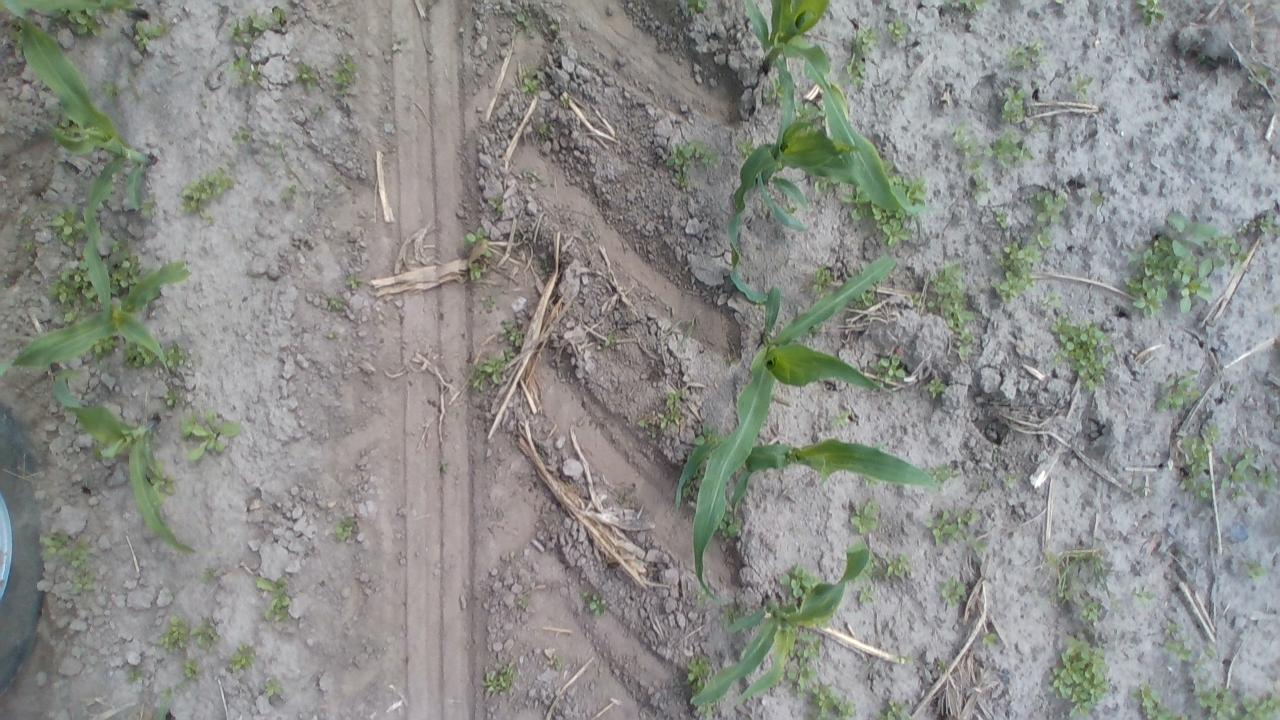Maize: (690, 244, 899, 606), (3, 3, 158, 322), (744, 0, 922, 220), (728, 108, 899, 309), (686, 534, 874, 715), (48, 366, 198, 555), (3, 224, 189, 374), (669, 438, 940, 528), (15, 0, 155, 20), (149, 697, 175, 720)
Weeds: (1124, 212, 1218, 319), (792, 640, 858, 718), (1052, 317, 1114, 391), (1051, 640, 1110, 715), (930, 266, 976, 356), (1174, 417, 1221, 503), (1042, 546, 1115, 599), (41, 530, 92, 594), (182, 410, 242, 460), (871, 174, 926, 226), (1223, 444, 1272, 502), (1193, 685, 1277, 718), (181, 170, 234, 212), (1154, 366, 1202, 410), (52, 268, 93, 318), (231, 8, 292, 40), (110, 231, 139, 294), (641, 392, 682, 436), (988, 132, 1034, 170), (927, 509, 972, 546), (256, 575, 292, 621), (1134, 682, 1178, 719), (777, 564, 818, 600), (131, 18, 173, 53), (466, 231, 494, 283), (472, 354, 512, 388), (1029, 192, 1067, 225), (1160, 617, 1187, 663), (994, 271, 1034, 302), (65, 8, 106, 37), (331, 54, 358, 98), (482, 662, 516, 696), (160, 615, 190, 652), (838, 184, 867, 222), (664, 141, 702, 170), (232, 52, 264, 86), (54, 209, 82, 246), (950, 124, 977, 160), (874, 354, 908, 382), (500, 318, 526, 354), (1007, 42, 1039, 70), (848, 37, 867, 84), (851, 502, 880, 532), (150, 465, 176, 498), (1002, 85, 1026, 120), (1003, 243, 1036, 268), (1136, 1, 1166, 28), (939, 578, 967, 606), (880, 553, 910, 579), (228, 646, 255, 674), (1247, 62, 1276, 88), (684, 655, 709, 685), (967, 166, 989, 199), (1080, 595, 1104, 625), (926, 462, 958, 484), (880, 218, 906, 245), (1222, 238, 1249, 264), (295, 62, 320, 90), (194, 622, 220, 648), (1250, 212, 1275, 238), (762, 76, 784, 105), (124, 342, 150, 366), (808, 266, 831, 293), (889, 15, 910, 44), (1072, 74, 1094, 100), (793, 99, 820, 120), (948, 0, 991, 13), (882, 699, 909, 719), (166, 346, 186, 372), (338, 518, 358, 544), (584, 592, 607, 614), (264, 679, 288, 700), (720, 512, 739, 538), (100, 78, 122, 100), (1244, 555, 1265, 577), (231, 124, 253, 144), (280, 182, 300, 204), (695, 424, 717, 444), (1086, 186, 1104, 209), (682, 0, 706, 17), (202, 562, 222, 582), (859, 28, 880, 47), (1040, 290, 1058, 312), (1033, 228, 1052, 248), (94, 338, 115, 356), (718, 602, 739, 620), (123, 666, 144, 684), (538, 116, 555, 138), (488, 195, 507, 214), (182, 660, 200, 680), (478, 294, 498, 312), (522, 75, 540, 95), (978, 630, 998, 648), (327, 293, 344, 314), (856, 586, 874, 605), (926, 379, 945, 397), (1132, 586, 1156, 600), (537, 256, 553, 276), (737, 138, 754, 156), (345, 274, 361, 293), (514, 12, 530, 30), (674, 170, 690, 188), (994, 209, 1009, 228), (140, 200, 158, 215), (859, 476, 878, 490), (163, 389, 177, 408), (832, 412, 851, 426), (898, 650, 914, 666), (933, 658, 948, 675), (1002, 470, 1018, 485), (436, 458, 449, 476), (977, 476, 992, 491), (16, 212, 32, 226), (20, 238, 32, 252), (550, 655, 560, 668), (517, 599, 527, 611)
